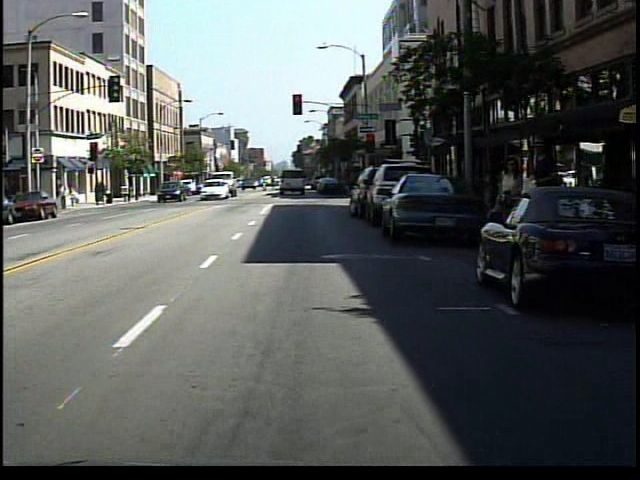person: (527, 133, 564, 268), (496, 154, 524, 263), (57, 181, 71, 213), (69, 183, 84, 209)
